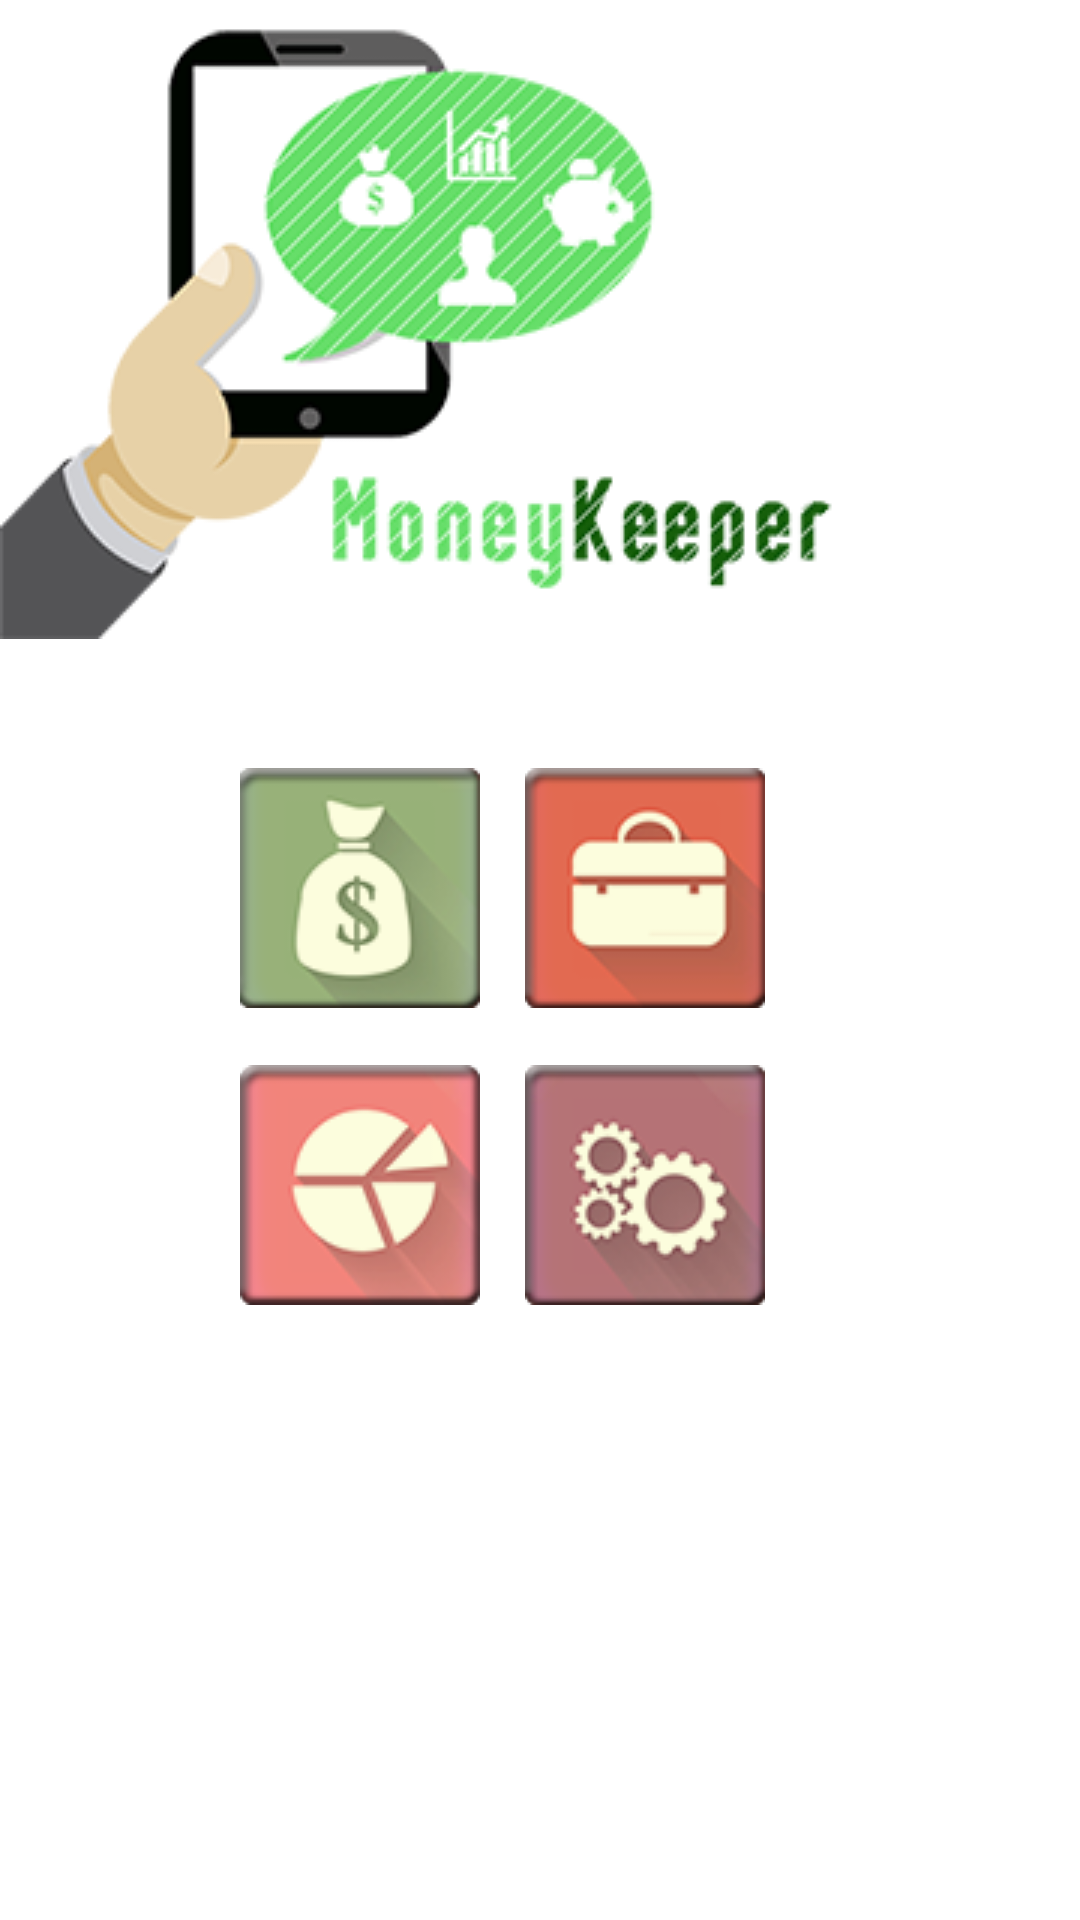

Locate icon controls on the screen. Image size 1080x1920, boxes as (left=x1, top=y1, right=x2, bottom=y2).
pic postavke: (left=525, top=1065, right=765, bottom=1305)
pic racuni: (left=525, top=768, right=765, bottom=1008)
pic statistika: (left=240, top=1065, right=480, bottom=1305)
pic transakcije: (left=240, top=768, right=480, bottom=1008)
